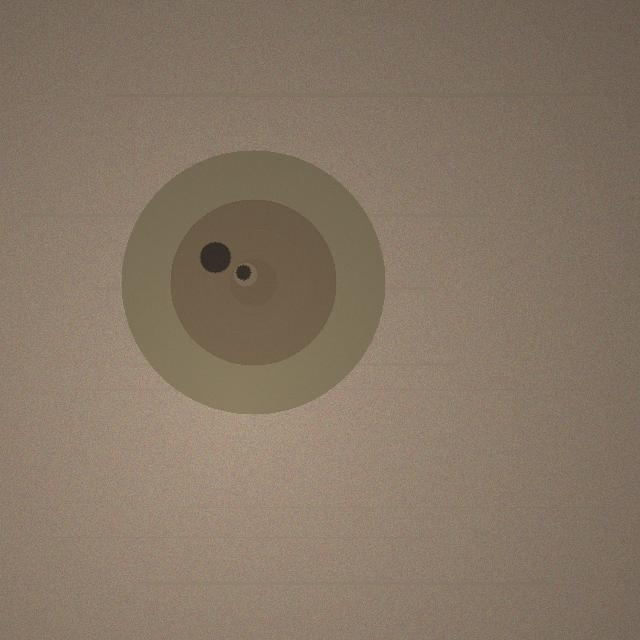shrinkage: (121, 150, 385, 414)
